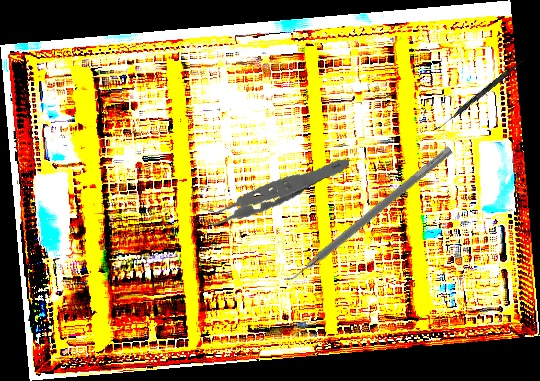Spatula Surgical: (279, 138, 454, 289), (434, 54, 528, 134)
Tissue Forceps: (190, 134, 351, 246)
